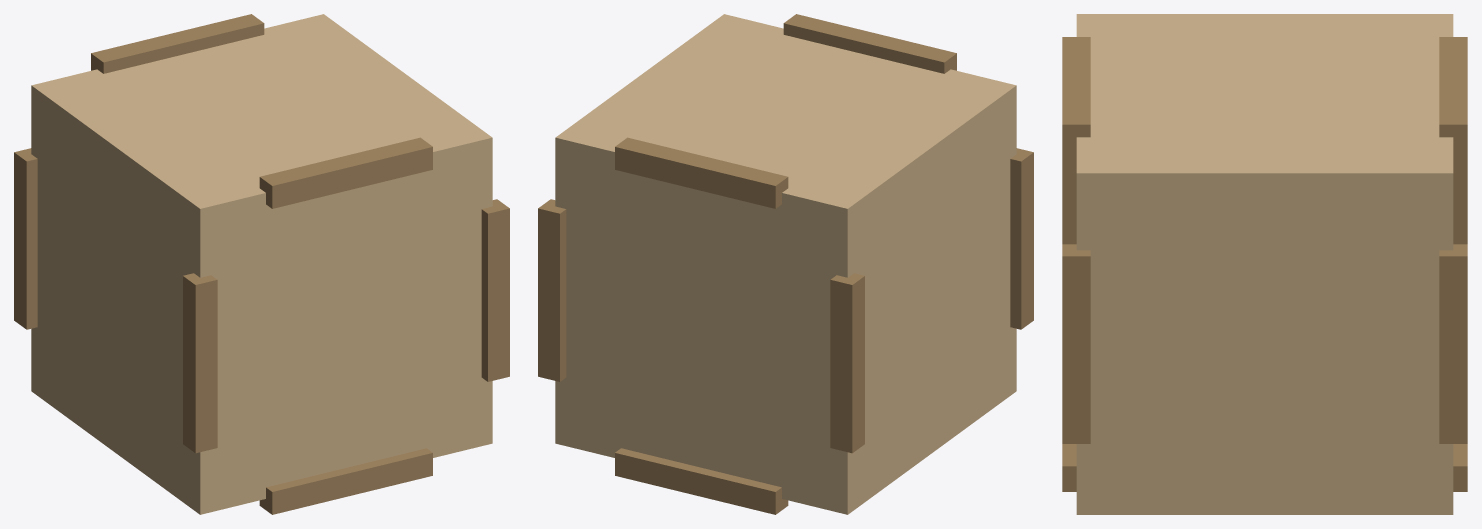
The model's file is Crate_Small.glb.
3 renders of one model, left to right at view 1: azimuth 30°, elevation 25°; view 2: azimuth 150°, elevation 25°; view 3: azimuth 270°, elevation 25°, orthographic. The views are drawn at different scales.
Parts seen in each view (by area): view 1: Crate_Small; view 2: Crate_Small; view 3: Crate_Small.
Boxes of the visible parts, <box> form: Crate_Small: <box>14,14,509,514</box>; Crate_Small: <box>538,14,1033,514</box>; Crate_Small: <box>1062,14,1467,514</box>.
Bounding box in the file's own units: 0.215 × 0.215 × 0.215.
